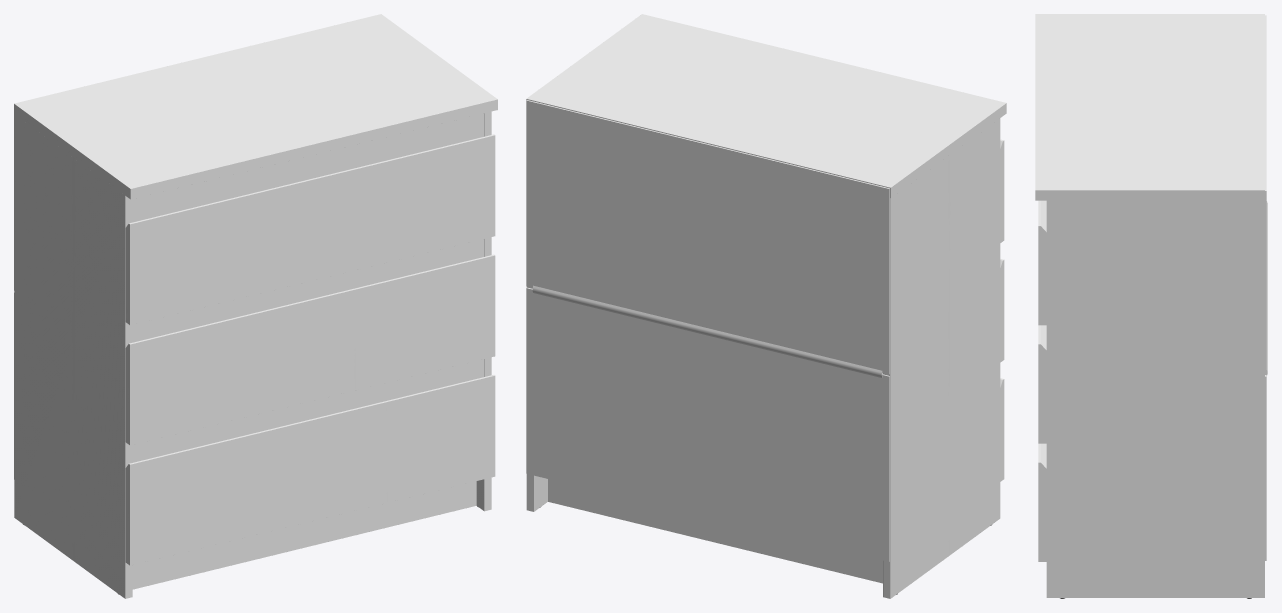
The model's file is medeia_sb_2347WH.glb.
3 views of the same model, side by side, from view 1: azimuth 30°, elevation 25°; view 2: azimuth 150°, elevation 25°; view 3: azimuth 270°, elevation 25° (orthographic).
Visible parts, largest first — view 1: body1, body002; view 2: NT_body_down001, body1, body002; view 3: body1, body002, NT_body_down001.
Boxes of the visible parts, x1,y1,x2,y2 form: body1: (14,14,497,598); body002: (125,134,495,565); NT_body_down001: (526,100,889,561); body1: (526,14,1006,598); body002: (1000,139,1004,481); body1: (1035,14,1264,597); body002: (1038,200,1046,561); NT_body_down001: (1265,15,1267,560).
Bounding box in the file's own units: 0.7997 × 0.8661 × 0.4451.
Materials: 5 (3 with a texture image).
